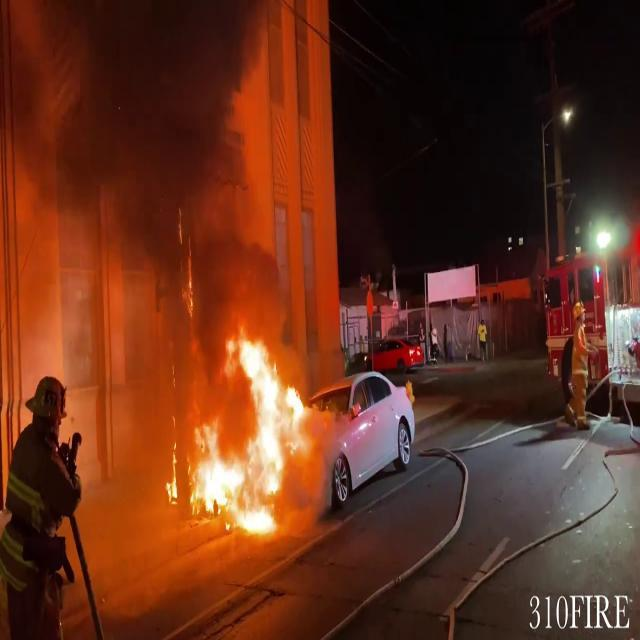Fire: (178, 319, 310, 538)
Smoke: (2, 0, 288, 356)
